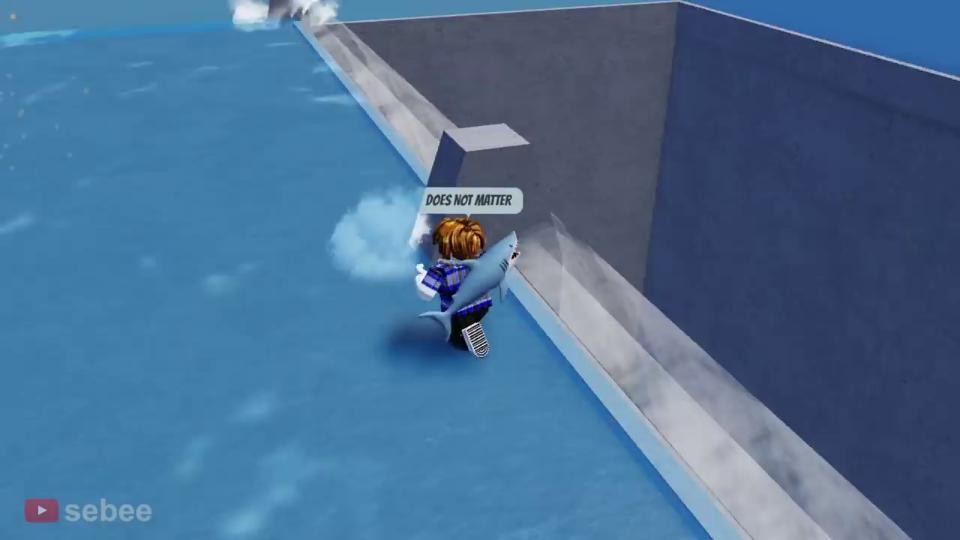Character: (413, 215, 489, 358)
